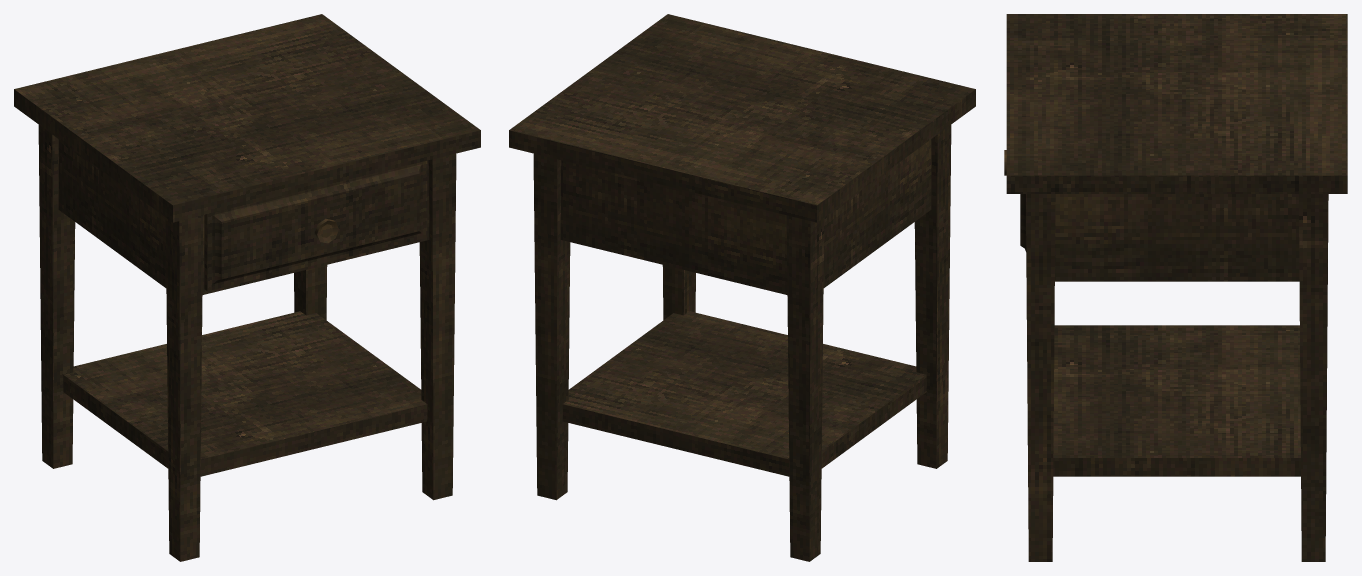
The model's file is bedside_table_1_3.glb.
3 renders of one model, left to right at view 1: azimuth 30°, elevation 25°; view 2: azimuth 150°, elevation 25°; view 3: azimuth 270°, elevation 25°, orthographic. The views are drawn at different scales.
Parts seen in each view (by area): view 1: bedside_table_1_3, bedside_table_1_3_drawer; view 2: bedside_table_1_3; view 3: bedside_table_1_3.
Boxes of the visible parts, x1=… form: bedside_table_1_3: x1=14, y1=14, x2=480, y2=561; bedside_table_1_3_drawer: x1=204, y1=160, x2=427, y2=291; bedside_table_1_3: x1=509, y1=14, x2=975, y2=561; bedside_table_1_3: x1=1006, y1=14, x2=1347, y2=561.
Bounding box in the file's own units: 0.56 × 0.64 × 0.5035.
Materials: 1 (1 with a texture image).
